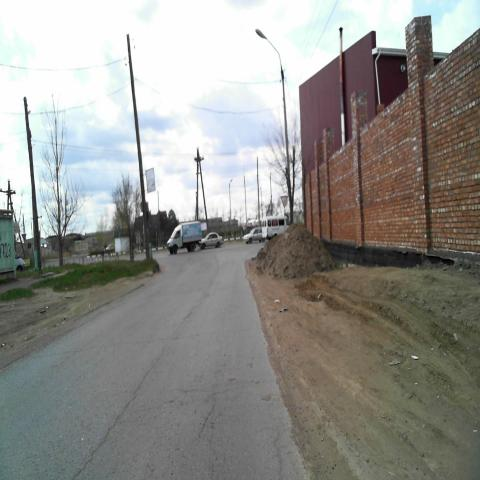2_4: (280, 195, 288, 209)
